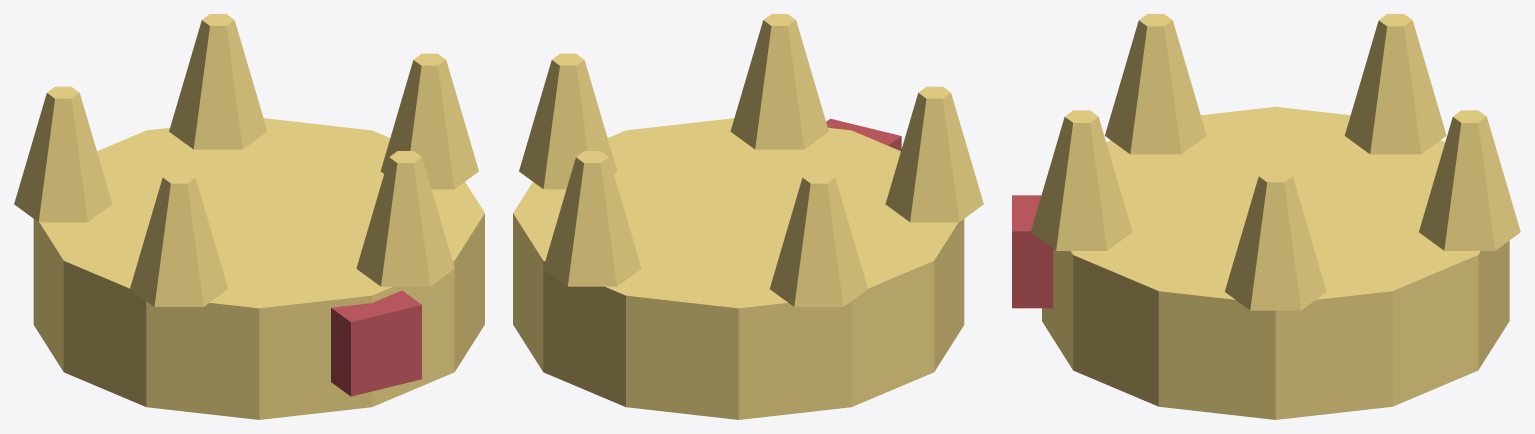
File: crown.glb
The picture shows the model from 3 angles, left to right: view 1: azimuth 30°, elevation 25°; view 2: azimuth 150°, elevation 25°; view 3: azimuth 270°, elevation 25°; orthographic projection. The views are drawn at different scales.
Parts seen in each view (by area): view 1: band, z2, z1, z4, z3, juwel, z0; view 2: band, z3, z4, z1, z2, z0, juwel; view 3: band, z3, z0, z2, z4, z1, juwel.
Part boxes in pixels (<box>): band: <box>33,118,484,419</box>; z2: <box>14,86,112,222</box>; z1: <box>169,14,267,149</box>; z4: <box>356,151,454,286</box>; z3: <box>130,171,228,306</box>; juwel: <box>331,290,421,396</box>; z0: <box>380,53,478,189</box>; band: <box>513,118,964,419</box>; z3: <box>885,86,983,222</box>; z4: <box>730,14,828,149</box>; z1: <box>543,151,641,286</box>; z2: <box>769,171,867,306</box>; z0: <box>519,53,617,189</box>; juwel: <box>826,118,901,150</box>; band: <box>1042,106,1509,419</box>; z3: <box>1105,14,1206,154</box>; z0: <box>1224,170,1326,310</box>; z2: <box>1344,14,1446,154</box>; z4: <box>1031,110,1132,250</box>; z1: <box>1419,110,1520,250</box>; juwel: <box>1012,195,1053,308</box>.
Size of the model in its own units: 0.1134 by 0.06 by 0.1197.
